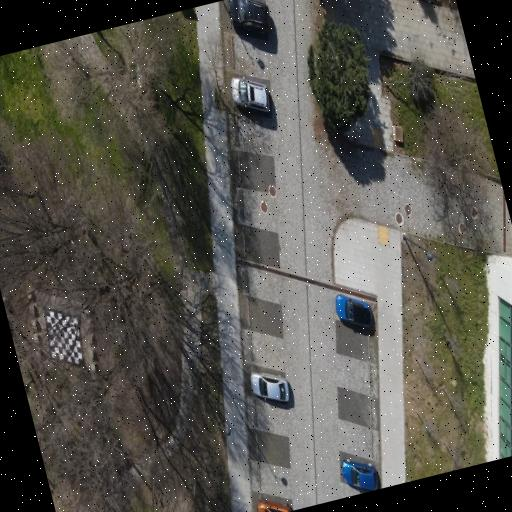person: (336, 294, 375, 329), (229, 0, 270, 33), (231, 77, 269, 110), (250, 371, 289, 400), (342, 459, 378, 490), (257, 497, 291, 511)
